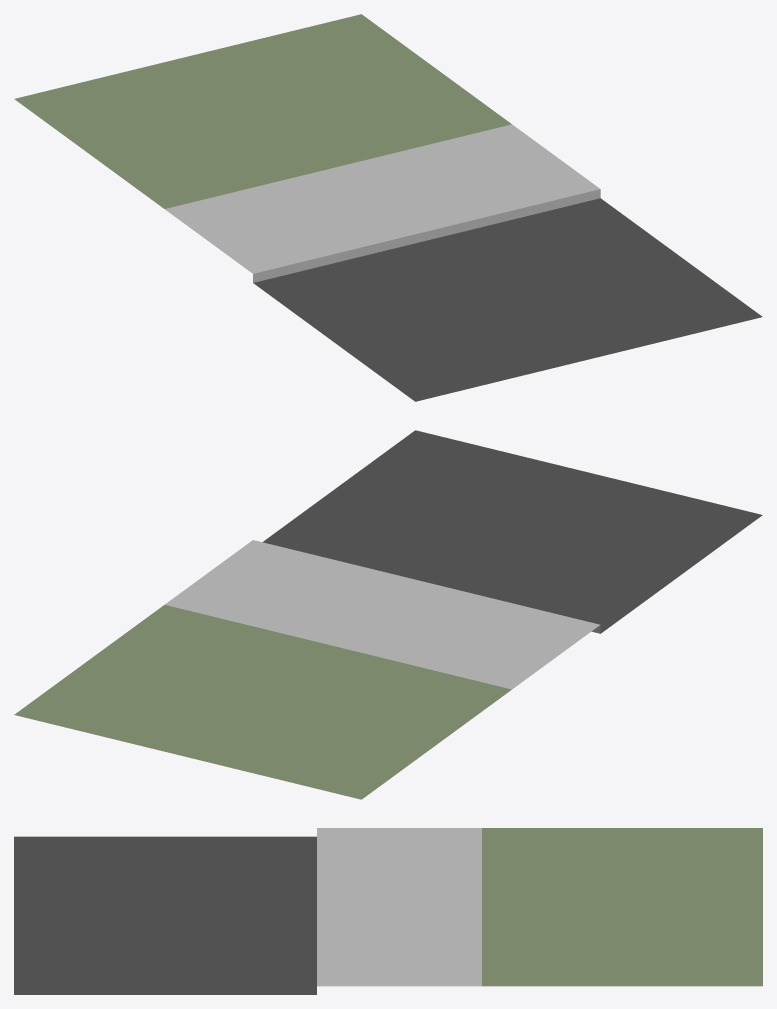
Rendered from GroundRoad_Grass.fbx.
3 renders of one model, top to bottom at view 1: azimuth 30°, elevation 25°; view 2: azimuth 150°, elevation 25°; view 3: azimuth 270°, elevation 25°, orthographic. The views are drawn at different scales.
Visible parts, largest first — view 1: GroundRoad1; view 2: GroundRoad1; view 3: GroundRoad1.
Boxes of the visible parts, x1,y1,x2,y2 form: GroundRoad1: (14,14,762,401); GroundRoad1: (14,430,762,799); GroundRoad1: (14,828,762,994).
Size of the model in its own units: 800 by 19.99 by 1600.
